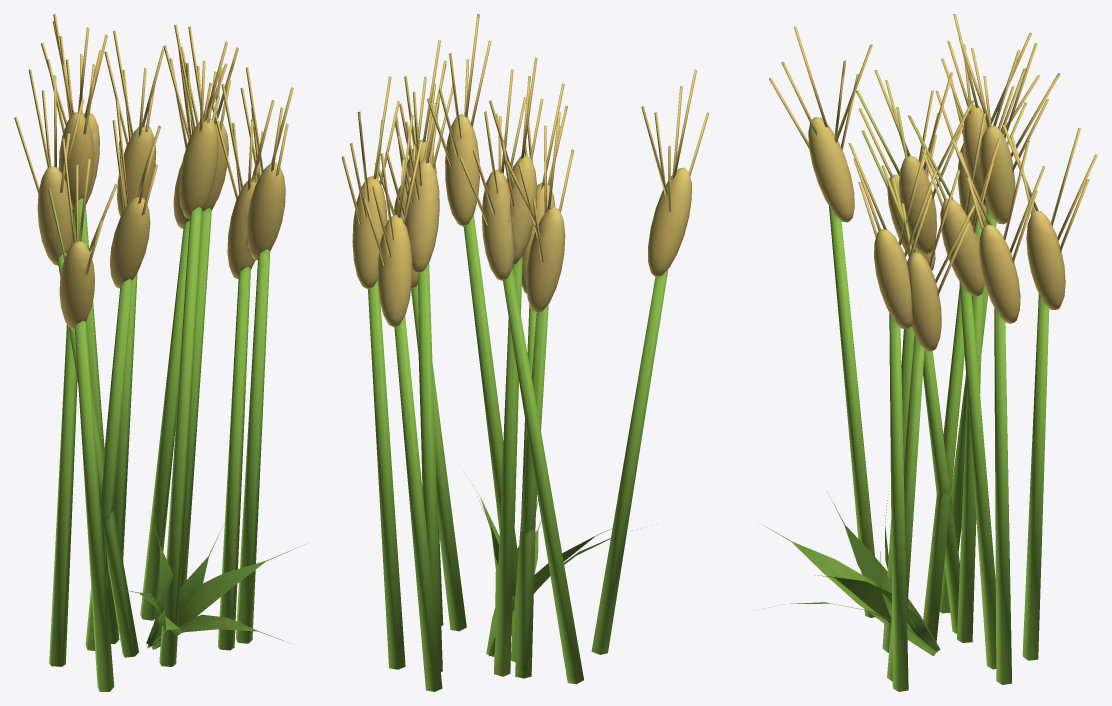
Rendered from crop_barley.glb.
3 renders of one model, left to right at view 1: azimuth 30°, elevation 25°; view 2: azimuth 150°, elevation 25°; view 3: azimuth 270°, elevation 25°, orthographic. The views are drawn at different scales.
Parts seen in each view (by area): view 1: crop_barley, fruit; view 2: crop_barley, fruit; view 3: crop_barley, fruit.
Part boxes in pixels (x1,y1,x2,y2): crop_barley: (49,198,304,691); fruit: (14,14,293,330); crop_barley: (368,214,668,691); fruit: (341,14,709,327); crop_barley: (758,204,1049,691); fruit: (769,14,1097,351).
Bounding box in the file's own units: 0.1978 × 0.469 × 0.2483.
Materials: 1 (1 with a texture image).
